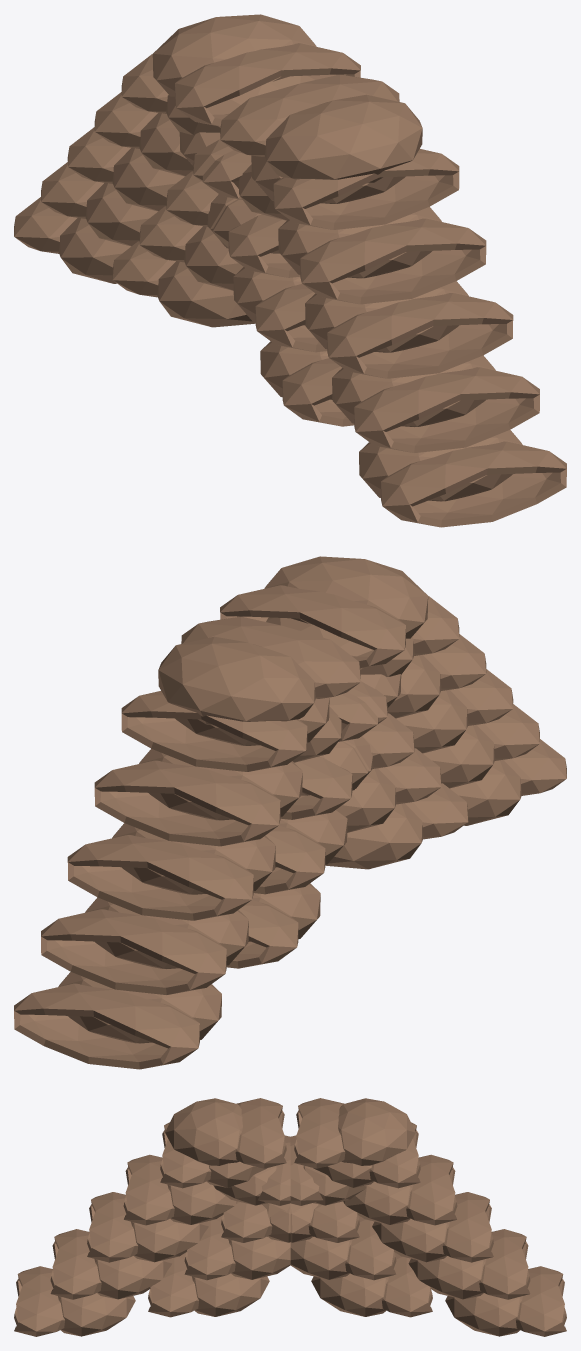
Rendered from SM_Prop_Sacks01.fbx.
The picture shows the model from 3 angles, top to bottom: view 1: azimuth 30°, elevation 25°; view 2: azimuth 150°, elevation 25°; view 3: azimuth 270°, elevation 25°; orthographic projection. The views are drawn at different scales.
Parts seen in each view (by area): view 1: Icosphere.005; view 2: Icosphere.005; view 3: Icosphere.005.
Boxes of the visible parts, bbox=[...] form: Icosphere.005: bbox=[14, 14, 566, 527]; Icosphere.005: bbox=[14, 556, 566, 1069]; Icosphere.005: bbox=[14, 1098, 566, 1336].
Bounding box in the file's own units: 540 × 231 × 139.
